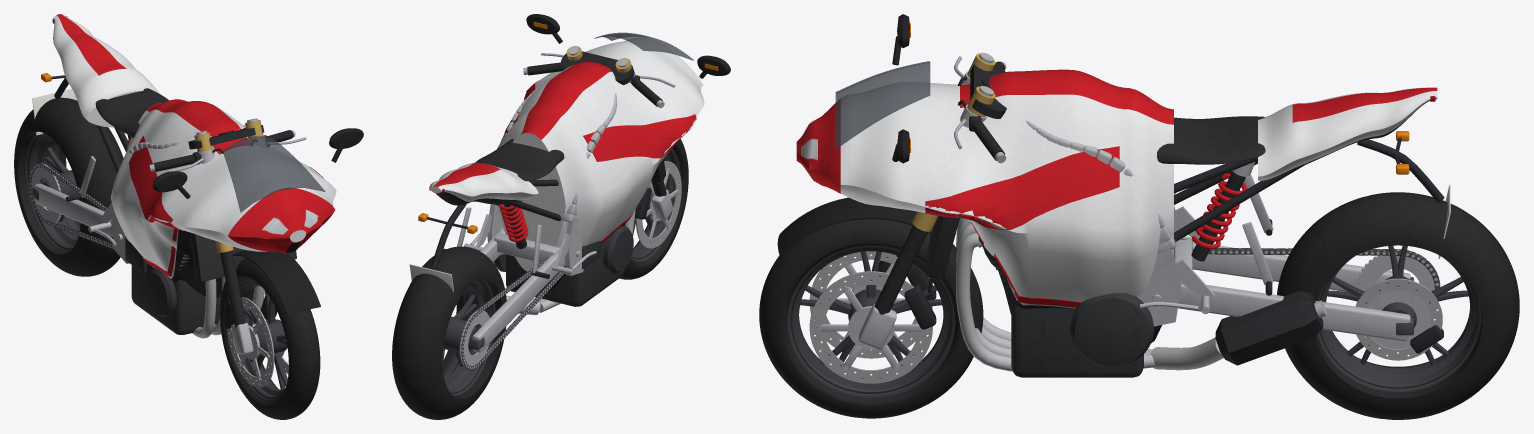
Rendered from motorcycle.glb.
The picture shows the model from 3 angles, left to right: view 1: azimuth 30°, elevation 25°; view 2: azimuth 150°, elevation 25°; view 3: azimuth 270°, elevation 25°; orthographic projection. The views are drawn at different scales.
Parts seen in each view (by area): view 1: Superbike - Fairing paint, white, Superbike - Tyre rubber, Superbike - Fairing paint, red, Superbike - Fairing paint, gloss black, Superbike - Wheel paint, dark grey, Superbike - Windscreen, smoked (alpha-blended), Superbike - Engine castings, black, Superbike - Cast aluminium, Superbike - Satin black, Superbike - Aluminium frame spars, Superbike - Seat, black vinyl, Superbike - Brushed steel (+8 smaller); view 2: Superbike - Fairing paint, white, Superbike - Tyre rubber, Superbike - Fairing paint, red, Superbike - Aluminium frame spars, Superbike - Engine castings, black, Superbike - Wheel paint, dark grey, Superbike - Cast aluminium, Superbike - Satin black, Superbike - Seat, black vinyl, Superbike - Fairing paint, gloss black, Superbike - Dark steel (chain, fasteners), Superbike - Brushed steel (+4 smaller); view 3: Superbike - Fairing paint, white, Superbike - Tyre rubber, Superbike - Fairing paint, red, Superbike - Satin black, Superbike - Wheel paint, dark grey, Superbike - Engine castings, black, Superbike - Aluminium frame spars, Superbike - Cast aluminium, Superbike - Brake disc steel, Superbike - Brushed steel, Superbike - Fairing paint, gloss black, Superbike - Windscreen, smoked (alpha-blended) (+4 smaller).
Boxes of the visible parts, left/top/right/bottom form: Superbike - Fairing paint, white: left=53, top=14, right=336, bottom=278; Superbike - Tyre rubber: left=14, top=97, right=320, bottom=419; Superbike - Fairing paint, red: left=56, top=14, right=335, bottom=276; Superbike - Fairing paint, gloss black: left=152, top=128, right=363, bottom=315; Superbike - Wheel paint, dark grey: left=25, top=132, right=287, bottom=401; Superbike - Windscreen, smoked (alpha-blended): left=223, top=136, right=325, bottom=212; Superbike - Engine castings, black: left=125, top=237, right=254, bottom=334; Superbike - Cast aluminium: left=31, top=118, right=306, bottom=380; Superbike - Satin black: left=51, top=75, right=296, bottom=328; Superbike - Aluminium frame spars: left=34, top=125, right=245, bottom=263; Superbike - Seat, black vinyl: left=95, top=88, right=168, bottom=137; Superbike - Brushed steel: left=29, top=163, right=264, bottom=338; Superbike - Fairing paint, white: left=429, top=38, right=704, bottom=271; Superbike - Tyre rubber: left=392, top=139, right=688, bottom=419; Superbike - Fairing paint, red: left=433, top=62, right=696, bottom=243; Superbike - Aluminium frame spars: left=472, top=69, right=616, bottom=352; Superbike - Engine castings, black: left=493, top=225, right=633, bottom=306; Superbike - Wheel paint, dark grey: left=442, top=148, right=680, bottom=395; Superbike - Cast aluminium: left=457, top=46, right=679, bottom=367; Superbike - Satin black: left=427, top=51, right=666, bottom=304; Superbike - Seat, black vinyl: left=475, top=139, right=564, bottom=181; Superbike - Fairing paint, gloss black: left=436, top=14, right=730, bottom=293; Superbike - Dark steel (chain, fasteners): left=459, top=256, right=564, bottom=369; Superbike - Brushed steel: left=460, top=209, right=635, bottom=368; Superbike - Fairing paint, white: left=840, top=82, right=1437, bottom=308; Superbike - Tyre rubber: left=759, top=192, right=1519, bottom=419; Superbike - Fairing paint, red: left=796, top=69, right=1437, bottom=307; Superbike - Satin black: left=874, top=64, right=1444, bottom=365; Superbike - Wheel paint, dark grey: left=787, top=245, right=1480, bottom=397; Superbike - Engine castings, black: left=978, top=237, right=1153, bottom=377; Superbike - Aluminium frame spars: left=991, top=75, right=1410, bottom=341; Superbike - Cast aluminium: left=818, top=52, right=1434, bottom=370; Superbike - Brake disc steel: left=809, top=251, right=1442, bottom=383; Superbike - Brushed steel: left=956, top=218, right=1438, bottom=371; Superbike - Fairing paint, gloss black: left=777, top=14, right=1436, bottom=343; Superbike - Windscreen, smoked (alpha-blended): left=835, top=61, right=930, bottom=148.
Size of the model in its own units: 0.8744 by 1.03 by 2.04.
Materials: 22 (22 with a texture image).
